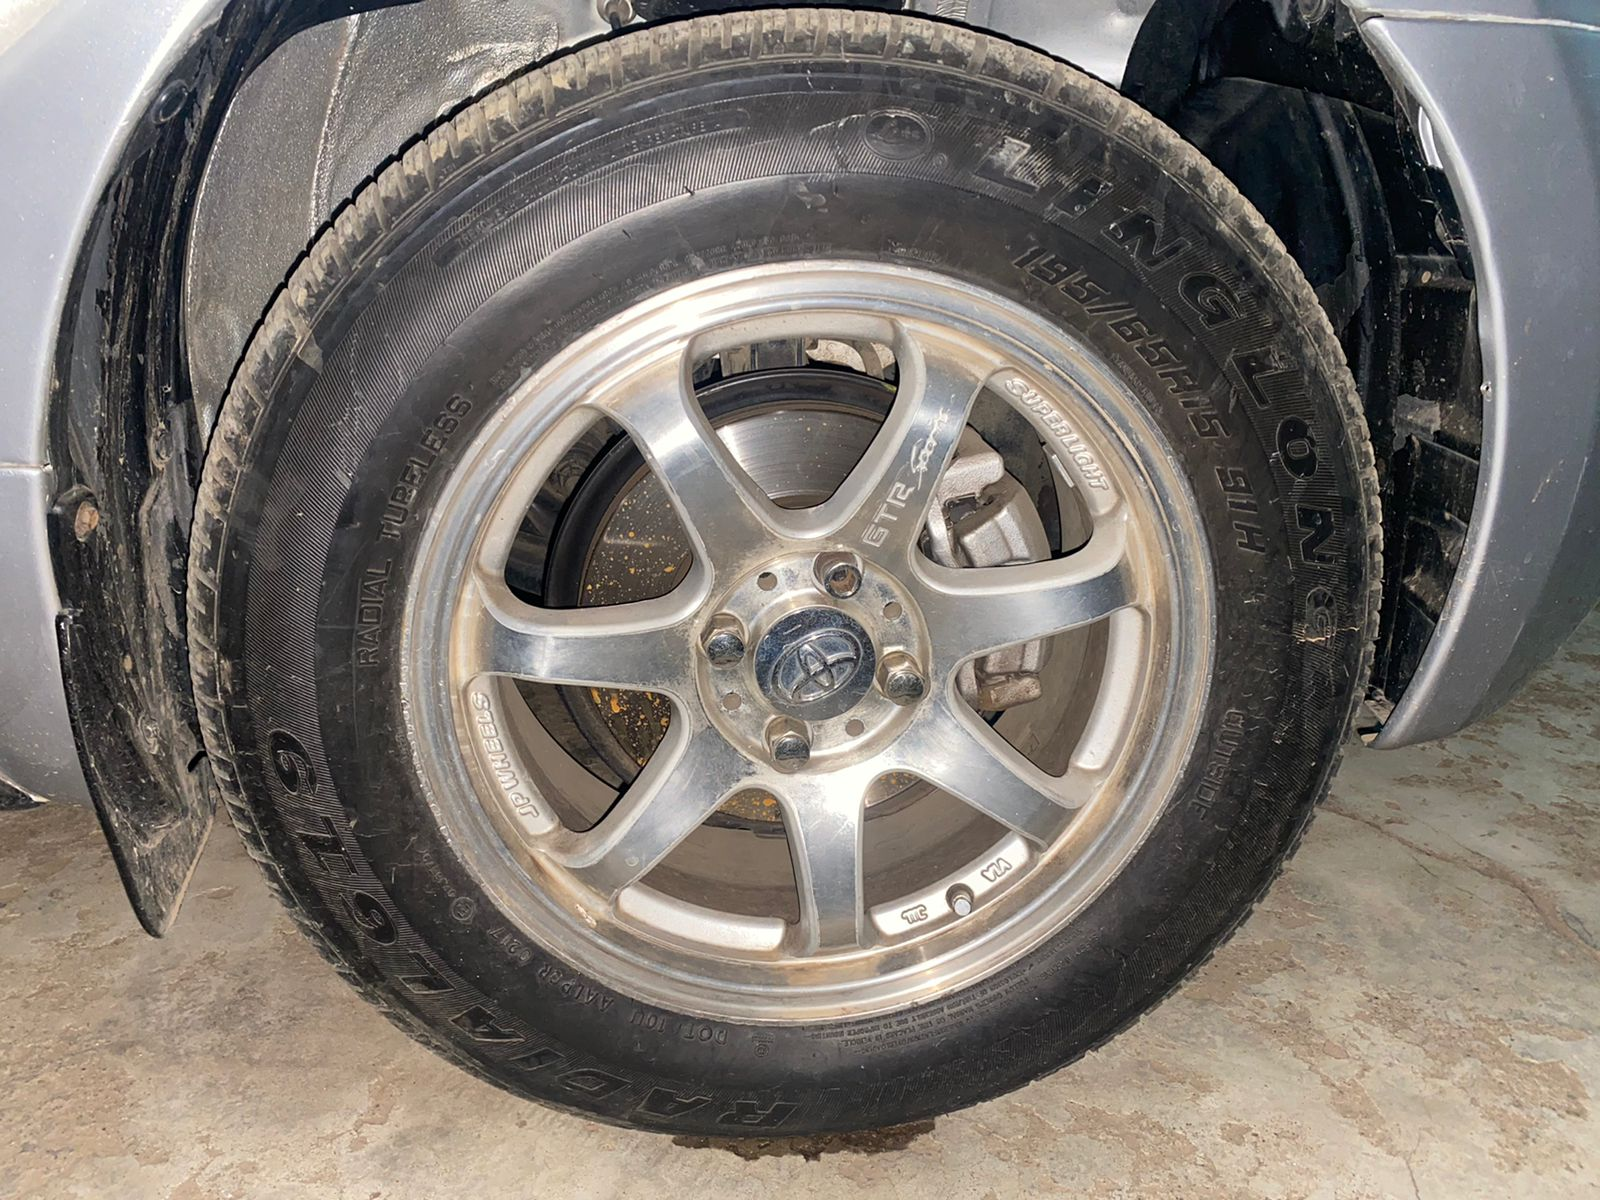wheel: (185, 1, 1388, 1151)
